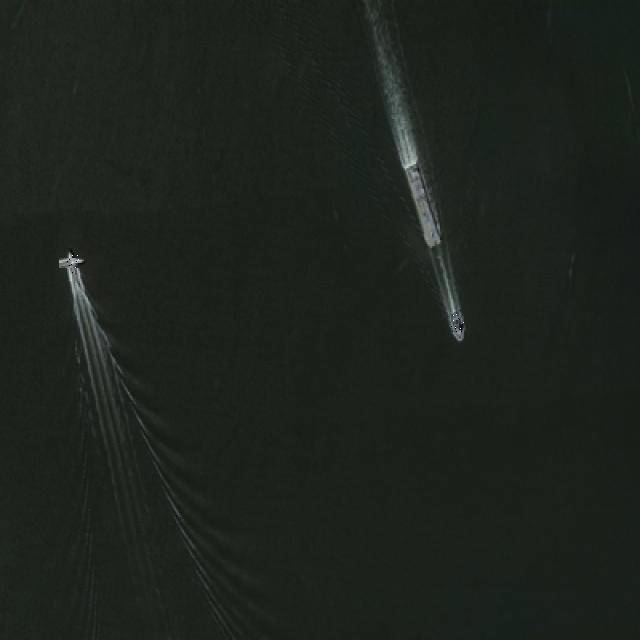boat: (451, 310, 464, 338), (63, 254, 81, 273)
